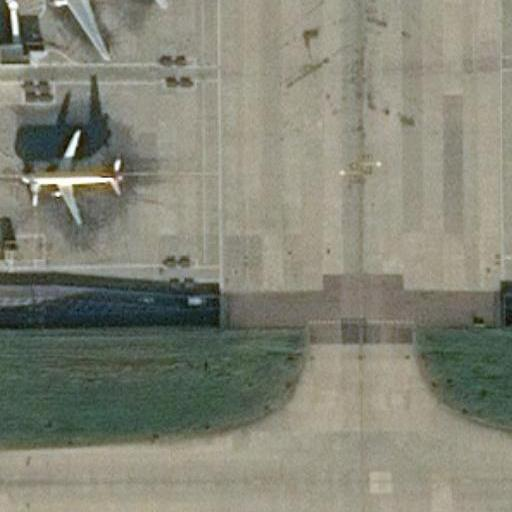Aircraft: (17, 124, 127, 226), (0, 0, 172, 63), (21, 126, 124, 226), (0, 0, 171, 58)
